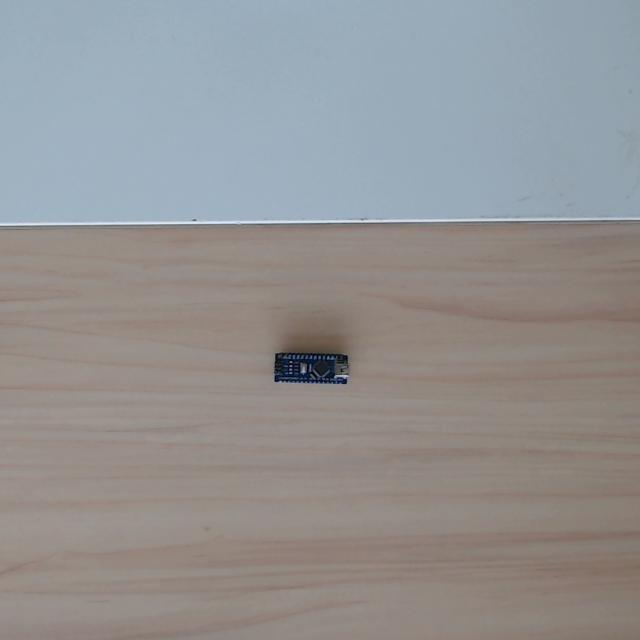Arduino-Nano: (272, 349, 351, 389)
